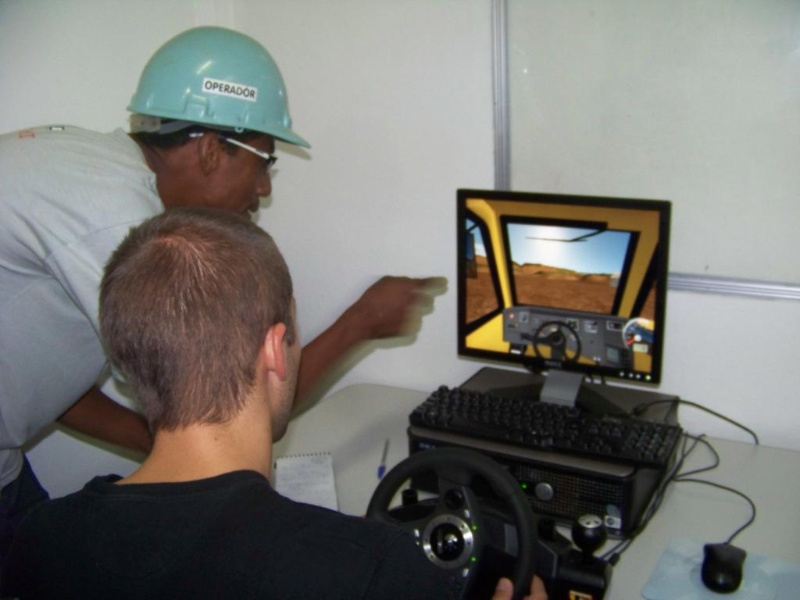Baret: (130, 25, 309, 147)
